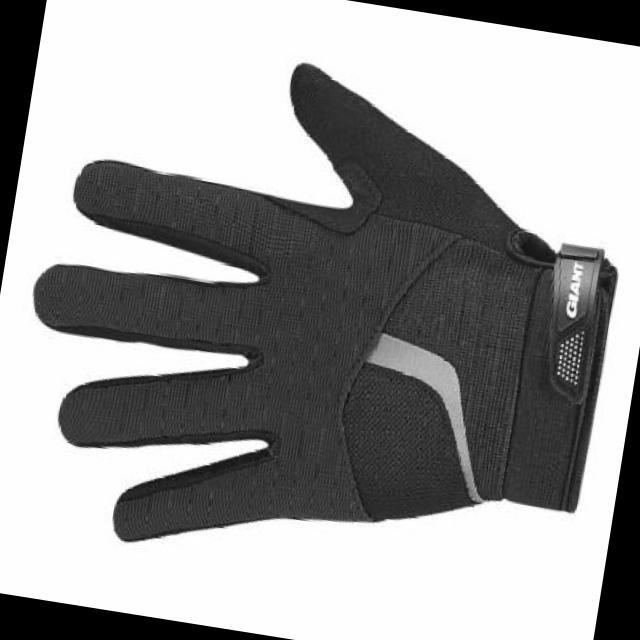glove: (30, 56, 620, 543)
